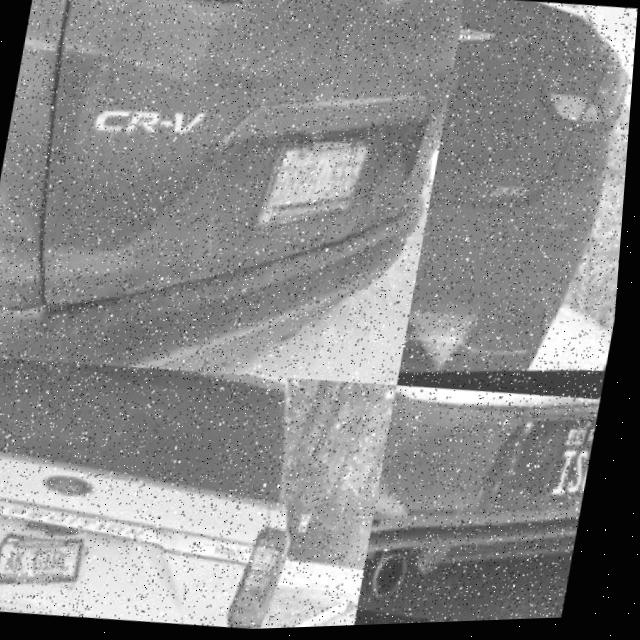LicensePlate: (256, 149, 375, 235), (0, 544, 94, 590)
